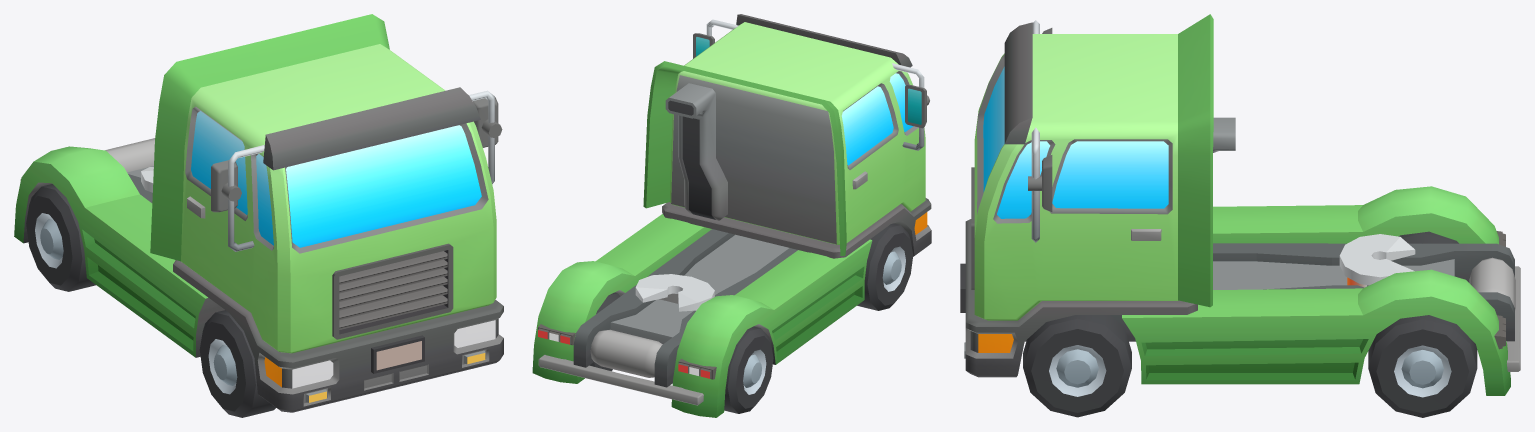
The model's file is city2-truck-02.glb.
3 views of the same model, side by side, from view 1: azimuth 30°, elevation 25°; view 2: azimuth 150°, elevation 25°; view 3: azimuth 270°, elevation 25° (orthographic). The views are drawn at different scales.
Visible parts, largest first — view 1: Plane.105, Wheel_255, Wheel_256; view 2: Plane.105, Wheel_255, Wheel_256; view 3: Plane.105, Wheel_257, Wheel_258, Wheel_256.
Boxes of the visible parts, box(x1,y1,x2,y2) form: Plane.105: box(14, 14, 503, 412); Wheel_255: box(199, 310, 275, 417); Wheel_256: box(26, 184, 95, 291); Plane.105: box(532, 14, 931, 417); Wheel_255: box(857, 223, 913, 310); Wheel_256: box(724, 326, 773, 413); Plane.105: box(960, 14, 1520, 395); Wheel_257: box(1023, 315, 1131, 417); Wheel_258: box(1368, 315, 1477, 417); Wheel_256: box(1399, 231, 1458, 243).
Size of the model in its own units: 3.1 by 3.13 by 5.28.
2 materials, 2 textured.
